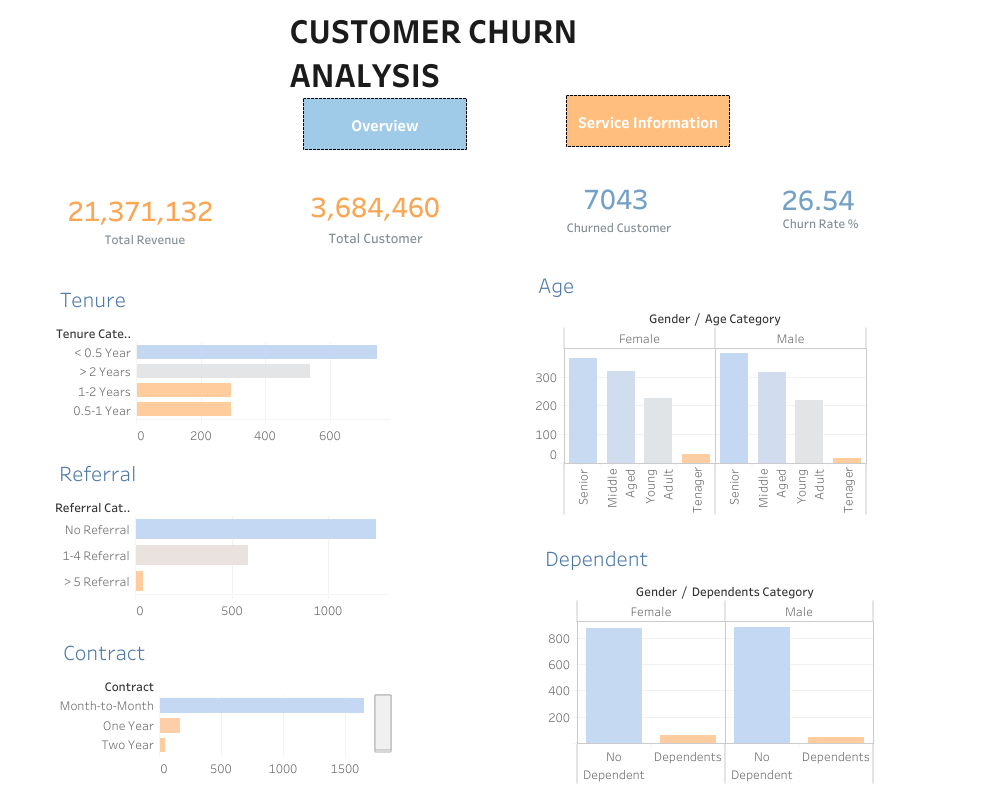

What the dashboard file says about the page in this screenshot:
{"tool":"tableau","page":{"name":"Customer Account Information","canvas":[1000,800],"ordinal":0},"visuals":[{"type":"title","box":[0,0,1000,52]},{"type":"dashboard-object","box":[621,82,178,52]},{"type":"dashboard-object","box":[404,83,179,53]},{"type":"dashboard-object","box":[189,85,179,52]},{"type":"worksheet","title":"Number of Referrals","mark":"Automatic","rows":["Customer ID"],"cols":["Number of Referrals"],"box":[25,156,944,309]},{"type":"worksheet","title":"Contract","mark":"Automatic","box":[21,467,590,311]},{"type":"worksheet","title":"Tenure","mark":"Circle","rows":["Customer Status"],"cols":["Tenure in Months"],"box":[488,505,494,278]}]}

Visuals, with their boxes in screenshot pixels (x1, y1, x2, y2), scaled from the page's 1000x800 canvas onto the 999x799 screenshot:
title: (x1=0, y1=0, x2=998, y2=52)
dashboard-object: (x1=620, y1=82, x2=798, y2=134)
dashboard-object: (x1=404, y1=83, x2=582, y2=136)
dashboard-object: (x1=189, y1=85, x2=368, y2=137)
"Number of Referrals" worksheet: (x1=25, y1=156, x2=968, y2=464)
"Contract" worksheet: (x1=21, y1=466, x2=610, y2=777)
"Tenure" worksheet (Circle marks): (x1=488, y1=504, x2=981, y2=782)
